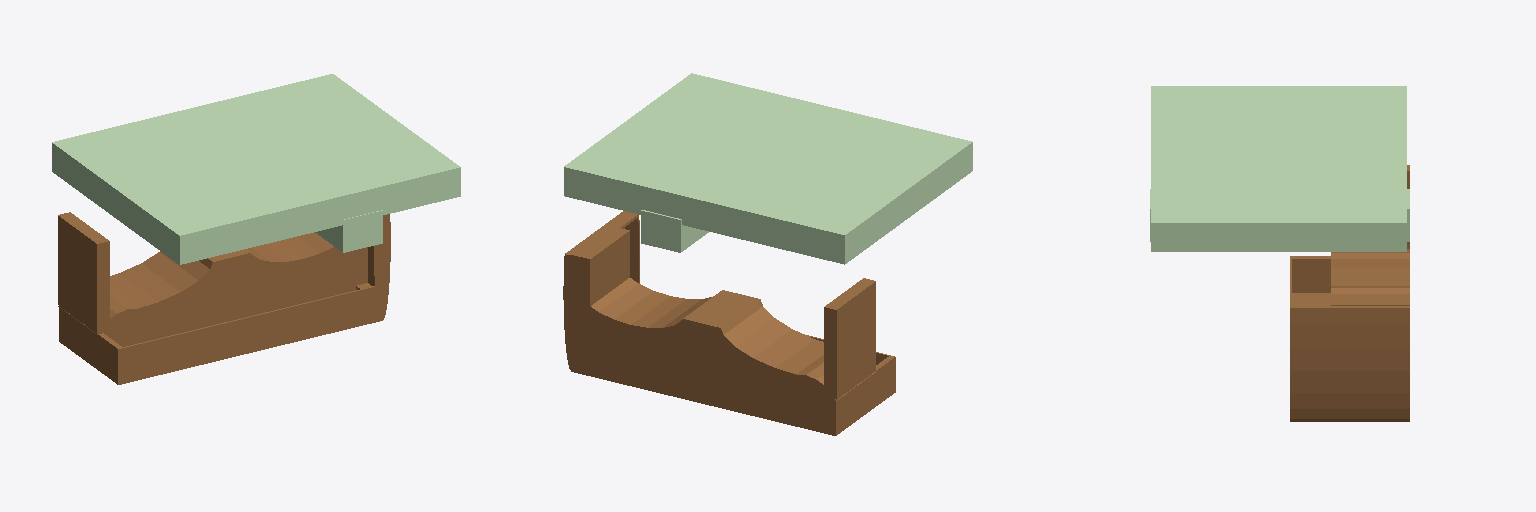
Rendered from tinker.obj.
3 views of the same model, side by side, from view 1: azimuth 30°, elevation 25°; view 2: azimuth 150°, elevation 25°; view 3: azimuth 270°, elevation 25° (orthographic).
Visible parts, largest first — view 1: obj_0; view 2: obj_0; view 3: obj_0.
Part boxes in pixels (bbox=[...]): obj_0: bbox=[52, 74, 460, 384]; obj_0: bbox=[563, 73, 972, 435]; obj_0: bbox=[1150, 86, 1409, 421].
Bounding box in the file's own units: 312 × 215 × 249.